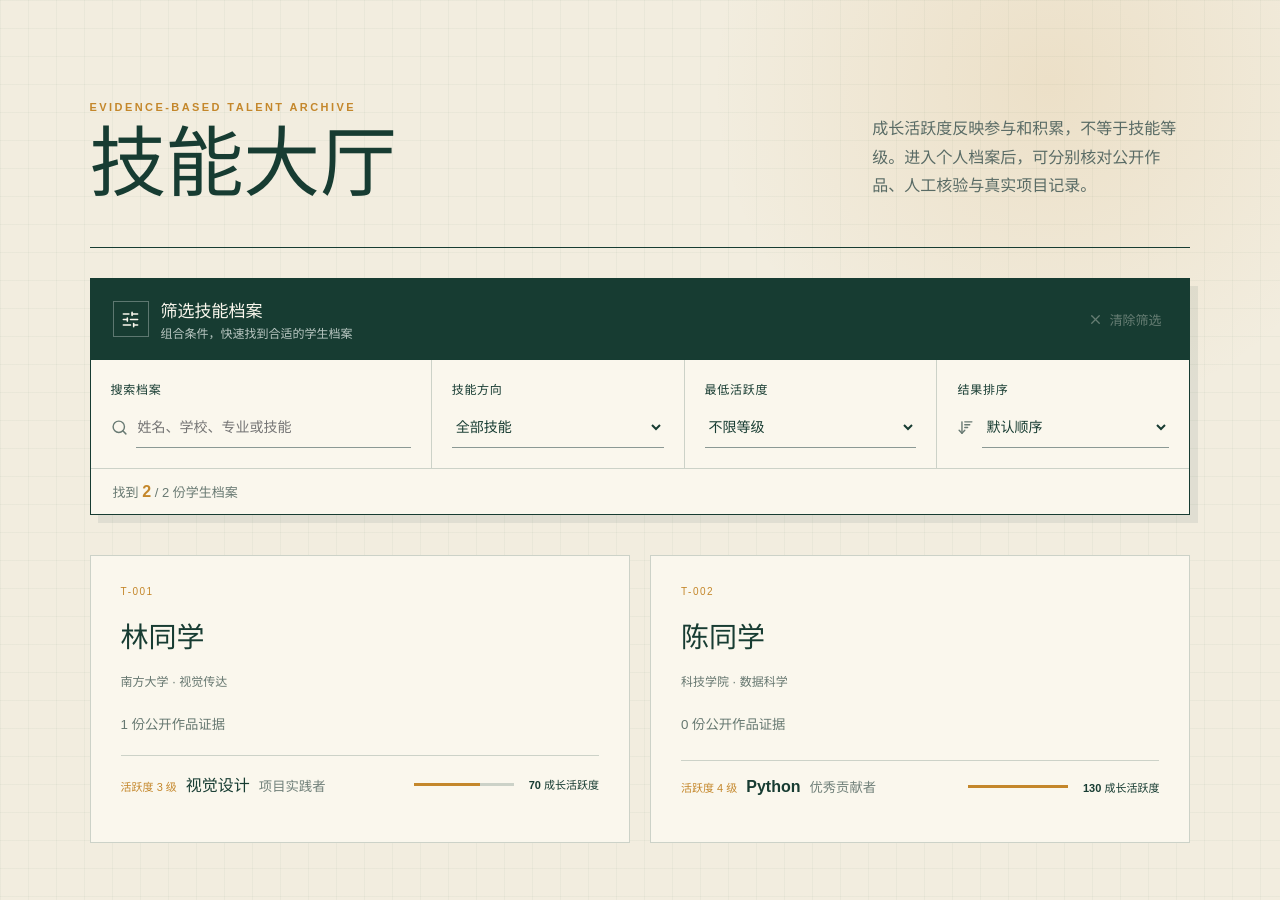
Test: filters talent profiles by keyword, skill and minimum activity level
The width and height of the screenshot is (1280, 900).
expect the heading "林同学" is shown: met, box x1=121 y1=622 x2=205 y2=653
expect the heading "陈同学" is shown: met, box x1=681 y1=622 x2=765 y2=653
Type "数据科学" into the field with placeholder "姓名、学校、专业或技能".
click(273, 427); type("数据科学")  # box x1=136 y1=406 x2=411 y2=448
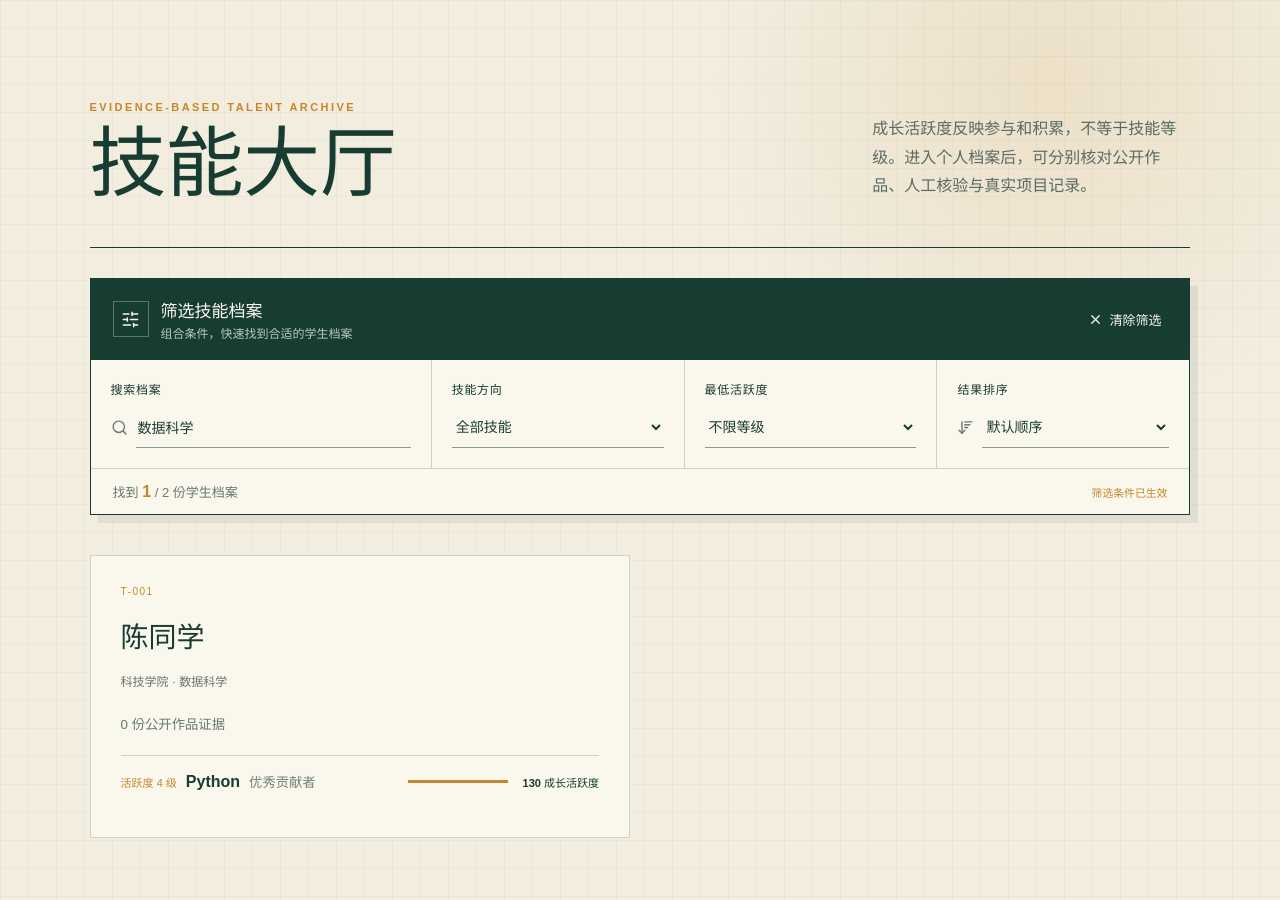
expect the heading "陈同学" is shown: met, box x1=121 y1=622 x2=205 y2=653
expect the link "林同学" is gone: met
Click the button "清除筛选".
click(1125, 319)  # box x1=1082 y1=309 x2=1167 y2=330
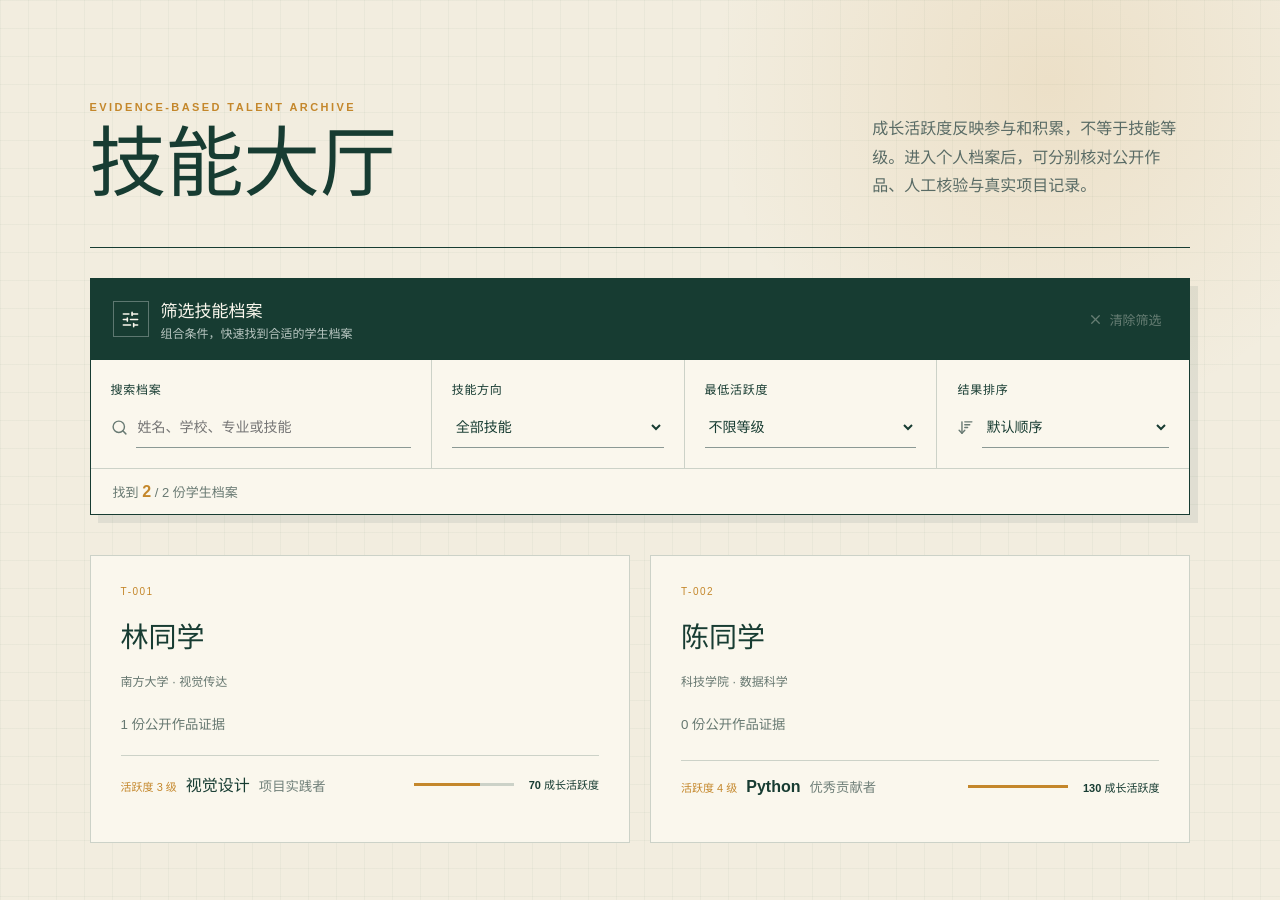
Select "视觉设计" in the dropdown labelled "技能方向" at (558, 427), box x1=452 y1=406 x2=664 y2=448
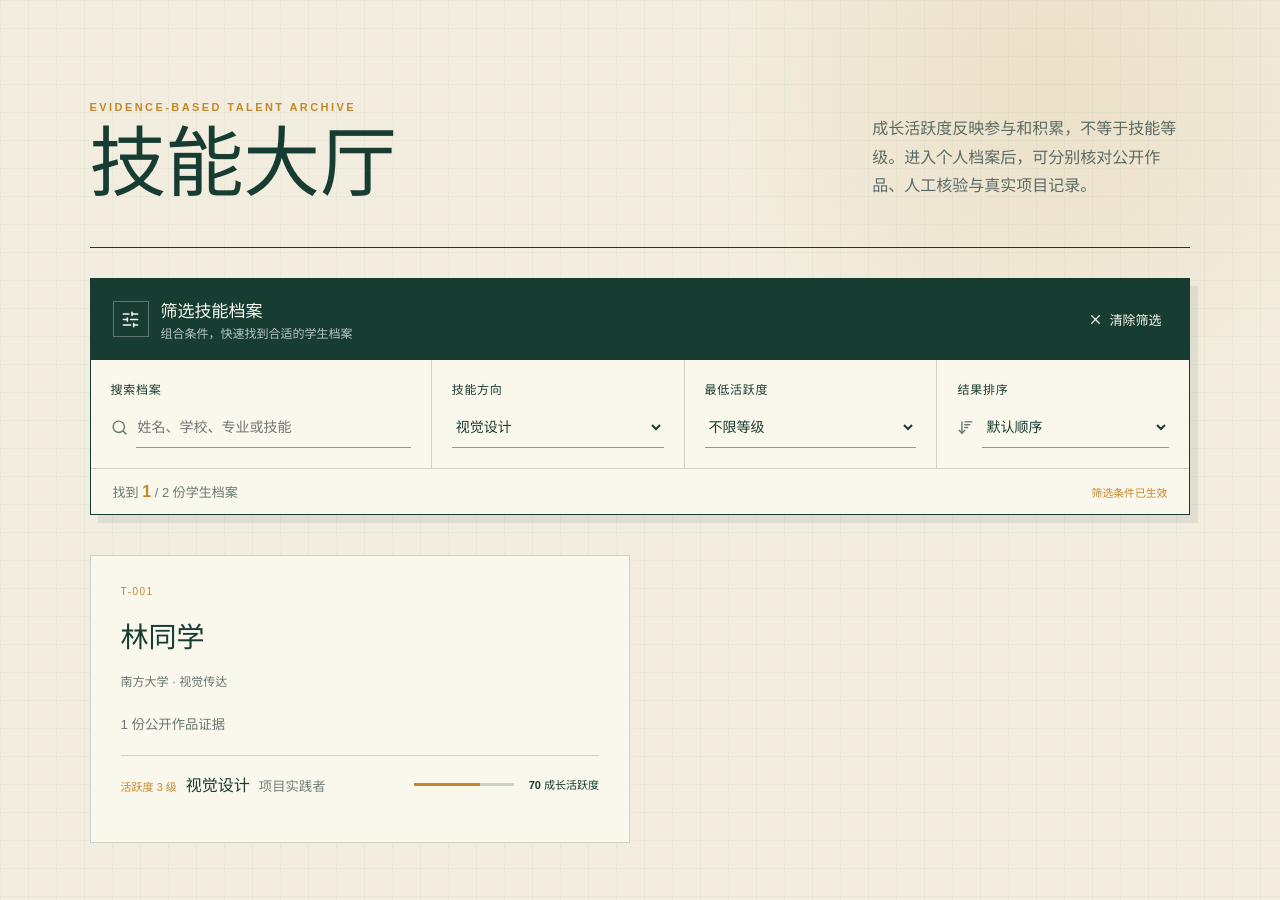
Select "Lv4 优秀贡献者" in the dropdown labelled "最低活跃度" at (811, 427), box x1=705 y1=406 x2=916 y2=448
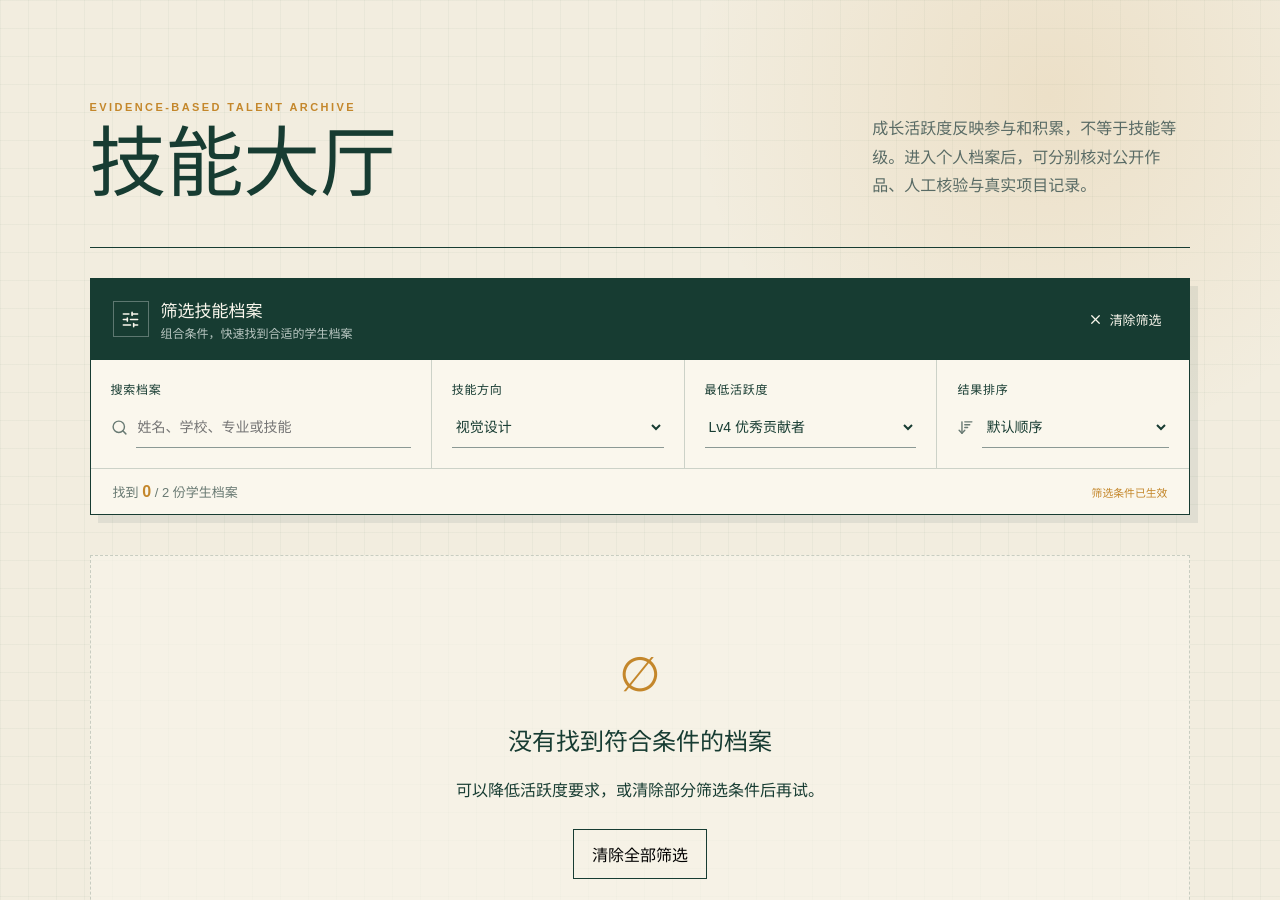
expect the heading "没有找到符合条件的档案" is shown: met, box x1=508 y1=728 x2=772 y2=755
